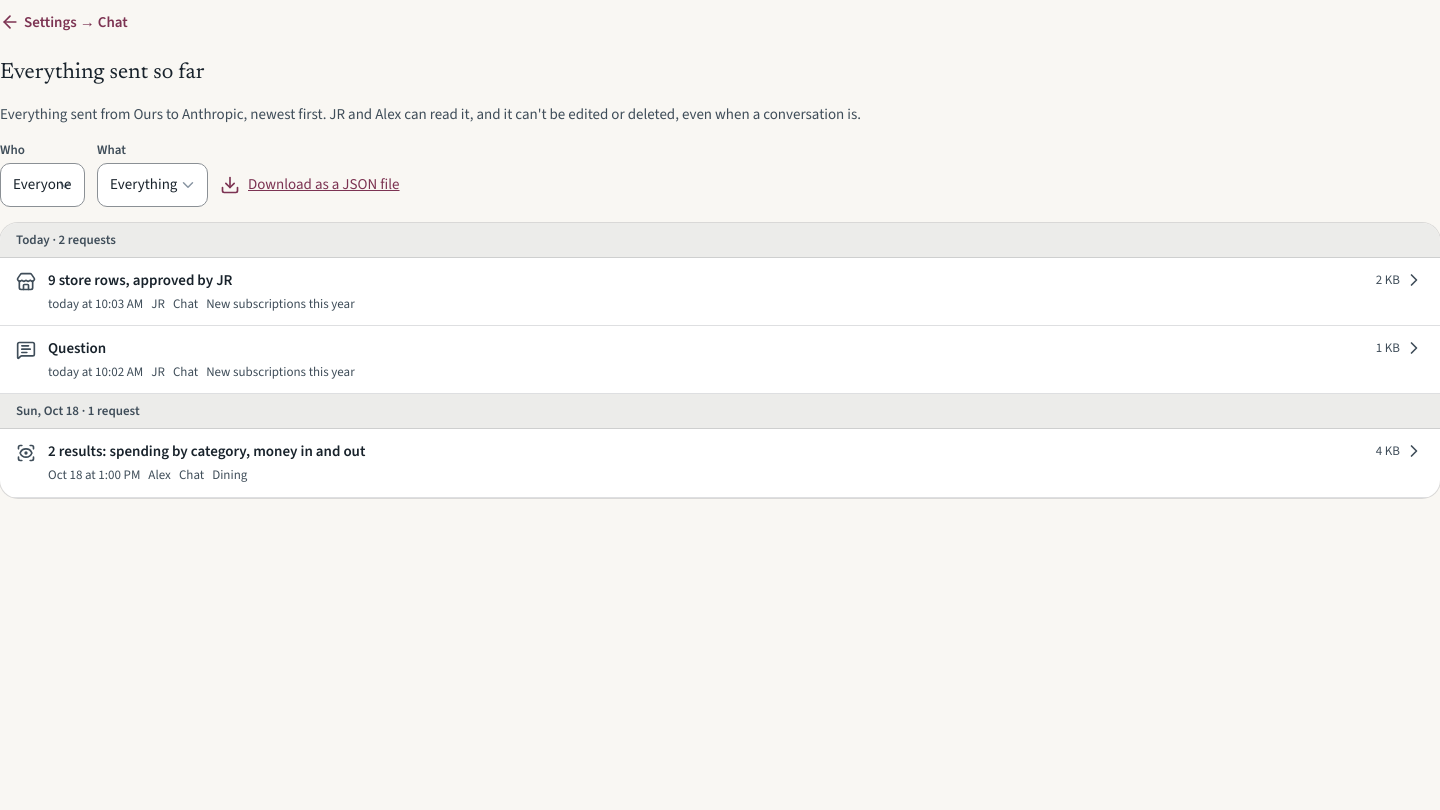
it: Everything sent so far › groups requests by day and opens one with its checks, aliases and exact JSON
Expected: the text "Today · 2 requests" is shown, x1=0 y1=223 x2=1439 y2=258
Expected: the text "Sun, Oct 18 · 1 request" is shown, x1=0 y1=394 x2=1439 y2=430
Click the button "9 store rows, approved by JR" at (140, 280), box x1=0 y1=258 x2=1439 y2=326
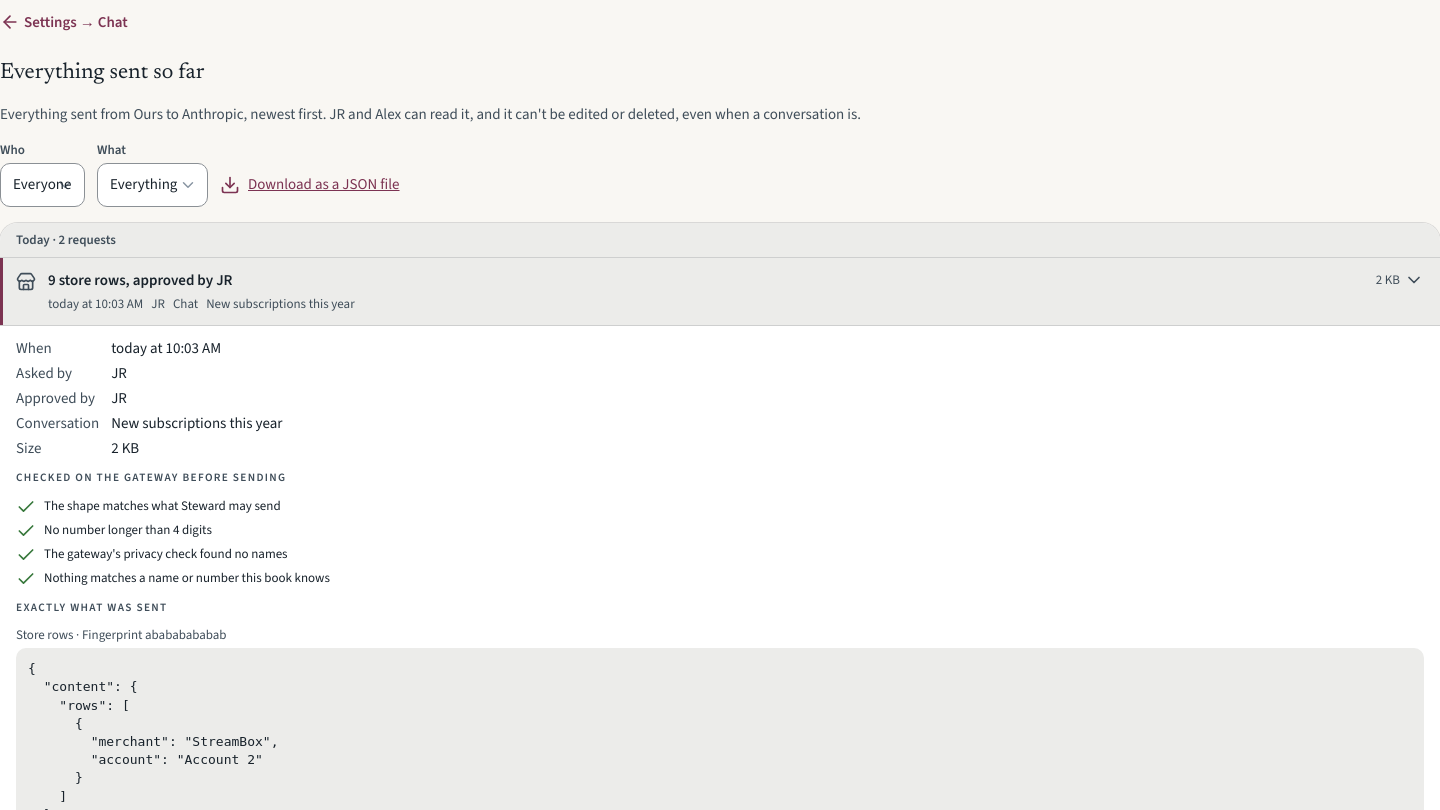
Expected: the text "Approved by" is shown, x1=16 y1=388 x2=99 y2=409
Expected: the list item "No number longer than 4 digits" is shown, x1=16 y1=521 x2=212 y2=541
